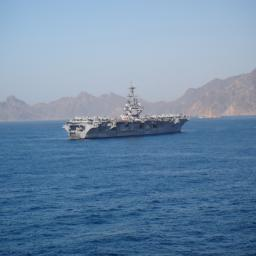Portanaves: (62, 79, 194, 145)
